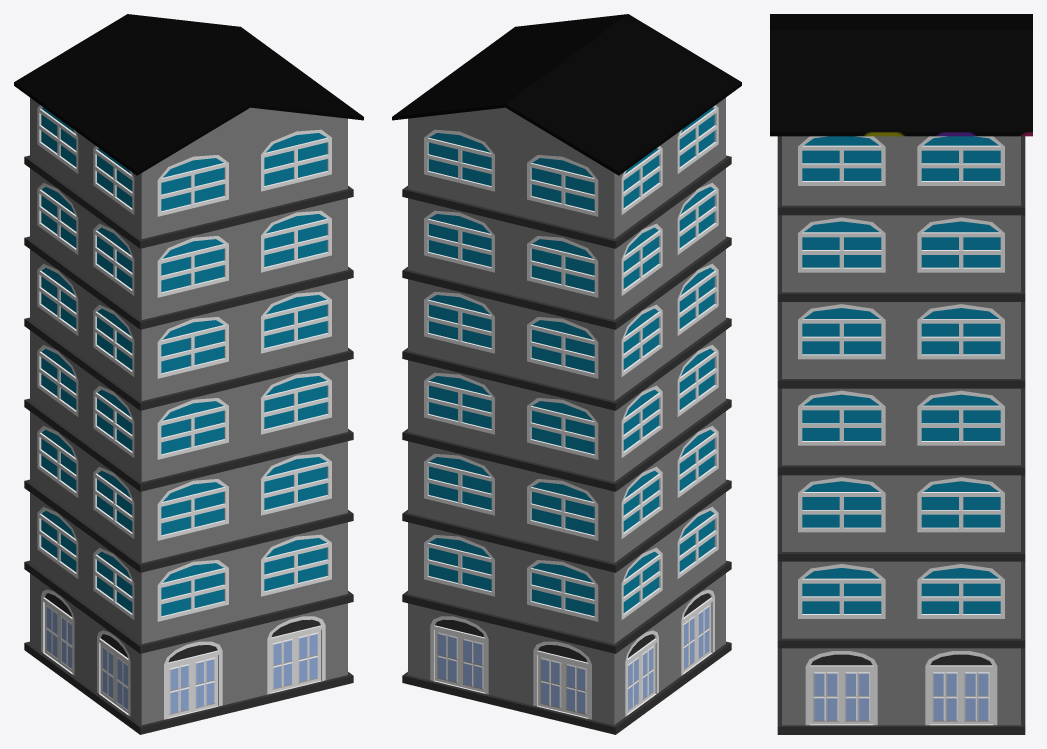
Rendered from Building3.fbx.
The picture shows the model from 3 angles, left to right: view 1: azimuth 30°, elevation 25°; view 2: azimuth 150°, elevation 25°; view 3: azimuth 270°, elevation 25°; orthographic projection. The views are drawn at different scales.
Parts seen in each view (by area): view 1: Building3; view 2: Building3; view 3: Building3.
Boxes of the visible parts, x1=… form: Building3: x1=14, y1=14, x2=363, y2=734; Building3: x1=392, y1=14, x2=741, y2=734; Building3: x1=770, y1=14, x2=1032, y2=734.
Size of the model in its own units: 645 by 1650 by 605.
